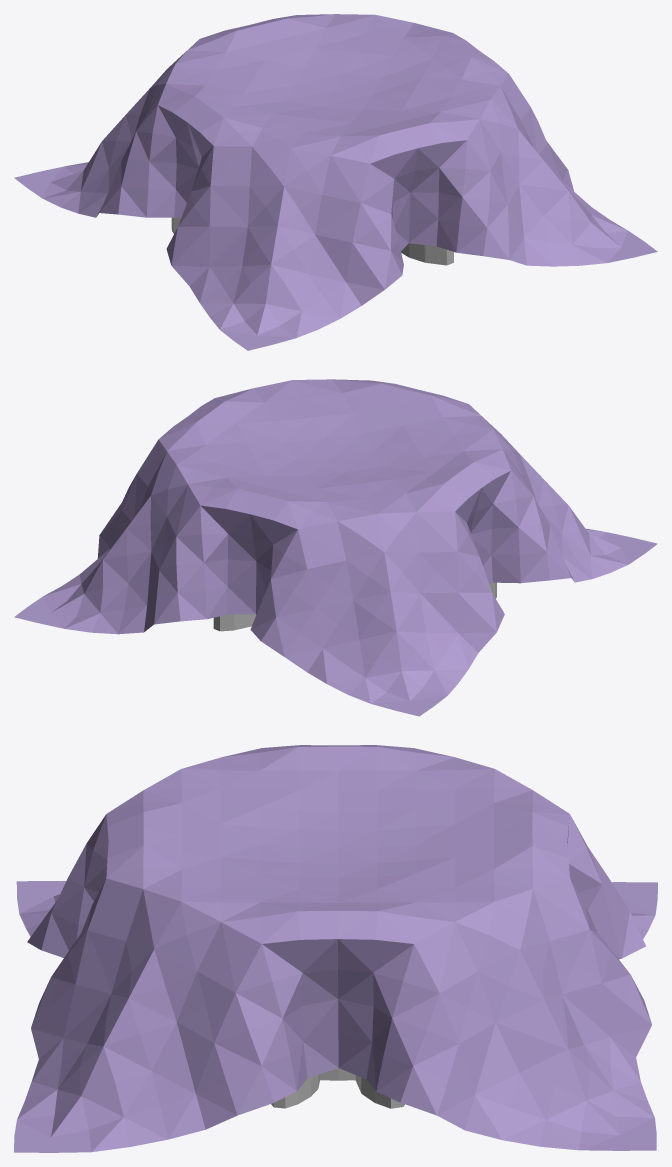
File: level_0.glb
3 views of the same model, one above another, from view 1: azimuth 30°, elevation 25°; view 2: azimuth 150°, elevation 25°; view 3: azimuth 270°, elevation 25° (orthographic). The views are drawn at different scales.
Parts seen in each view (by area): view 1: world, object.obj; view 2: world, object.obj; view 3: world, object.obj.
Part boxes in pixels (left/top/right/bottom): world: left=14, top=14, right=657, bottom=350; object.obj: left=171, top=217, right=453, bottom=265; world: left=14, top=379, right=657, bottom=716; object.obj: left=213, top=582, right=496, bottom=631; world: left=14, top=745, right=657, bottom=1152; object.obj: left=271, top=1068, right=404, bottom=1108.
Size of the model in its own units: 0.5114 by 0.1645 by 0.5117.
